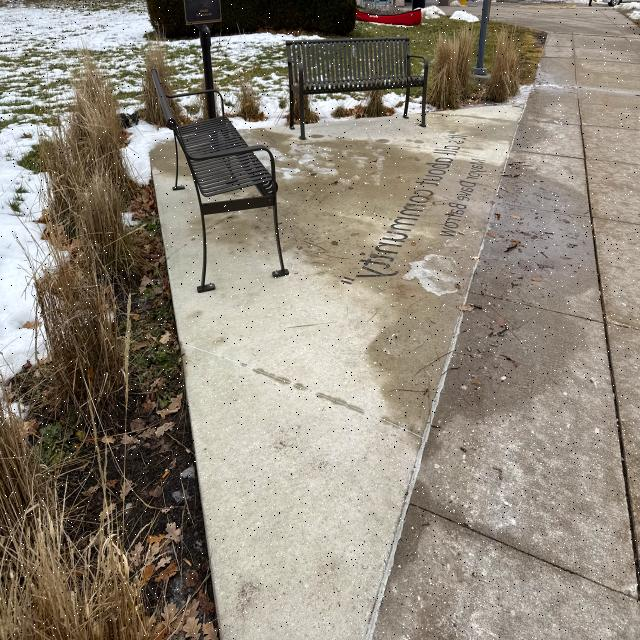Bench: (163, 64, 287, 298), (284, 30, 429, 140)
